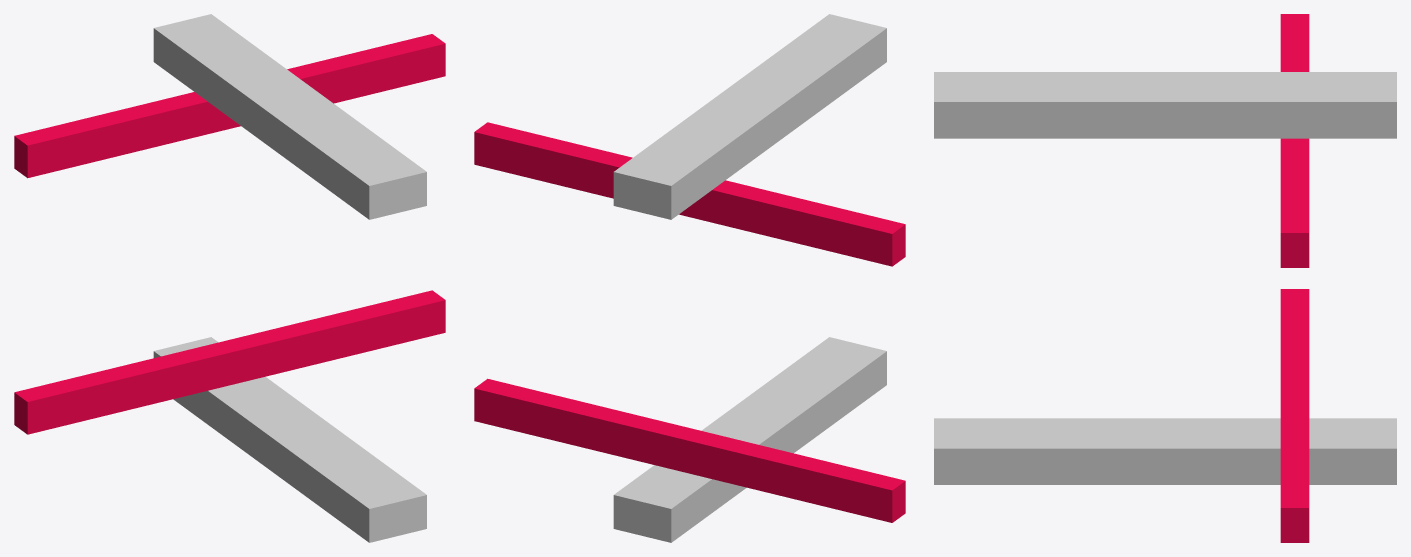
File: conveyor_sealing_machine.dae
3 renders of one model, left to right at view 1: azimuth 30°, elevation 25°; view 2: azimuth 150°, elevation 25°; view 3: azimuth 270°, elevation 25°, orthographic. The views are drawn at different scales.
Parts seen in each view (by area): view 1: instance_0_002, instance_0_001, instance_0_003, instance_0_004; view 2: instance_0_002, instance_0_001, instance_0_003, instance_0_004; view 3: instance_0_002, instance_0_003, instance_0_001, instance_0_004.
Boxes of the visible parts, x1,y1,x2,y2 form: instance_0_002: (153,14,426,219); instance_0_001: (14,290,445,434); instance_0_003: (153,337,426,542); instance_0_004: (14,34,445,178); instance_0_002: (613,14,886,219); instance_0_001: (474,378,905,522); instance_0_003: (613,337,886,542); instance_0_004: (474,122,905,266); instance_0_002: (934,72,1396,138); instance_0_003: (934,418,1396,484); instance_0_001: (1280,289,1309,542); instance_0_004: (1280,14,1309,267).
Size of the model in its own units: 639 by 522 by 572.
